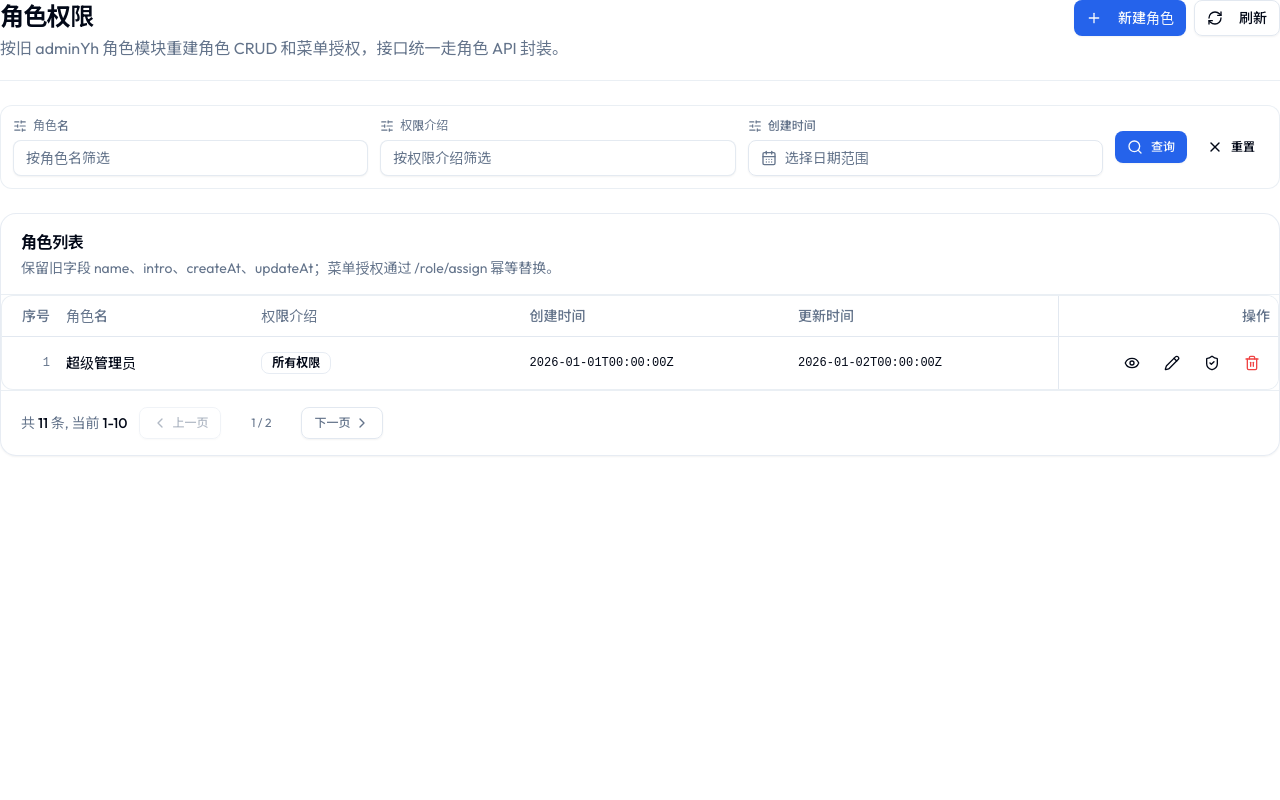
Test case: RolesList › validates required old role fields before creating
Check: the text "超级管理员" is shown, box [58,336,253,388]
Click the button "新建角色".
click(1130, 18)  # box [1074,0,1186,36]
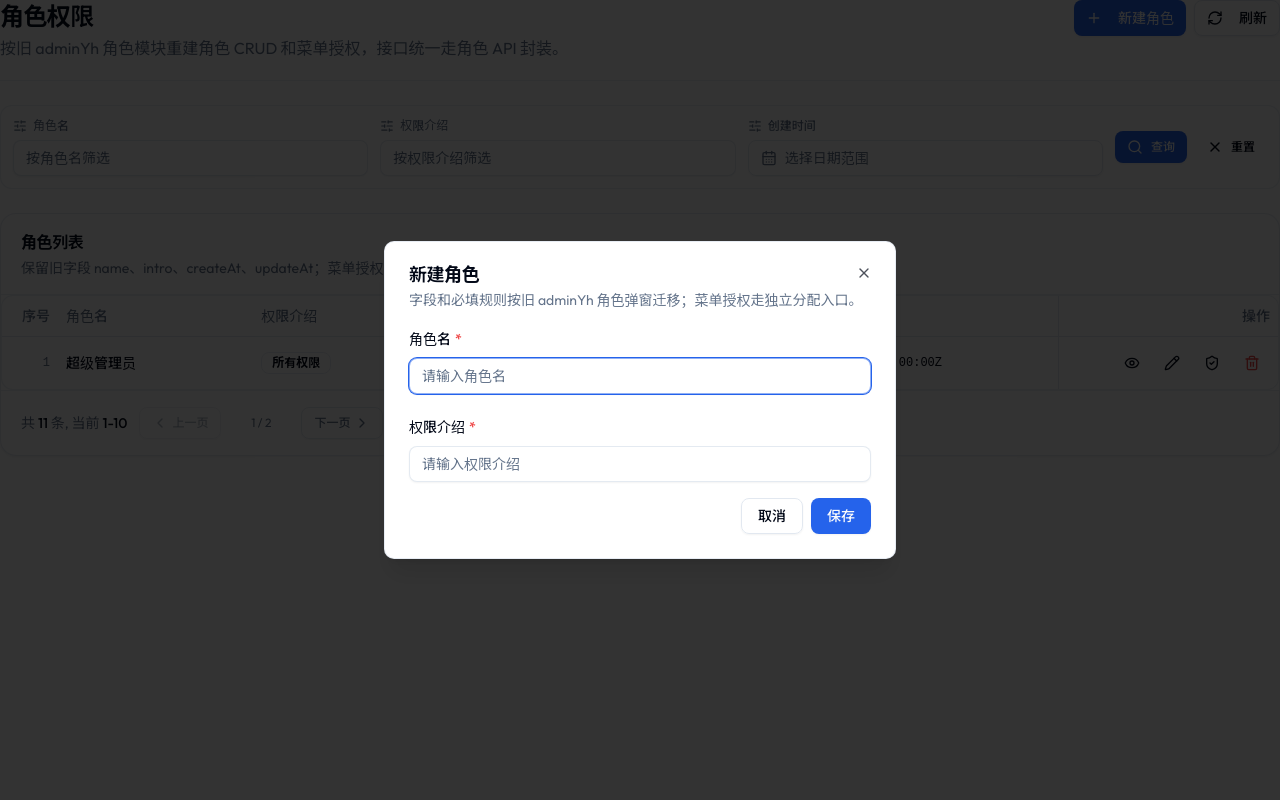
Click the button "保存".
click(841, 516)  # box [811,498,871,534]
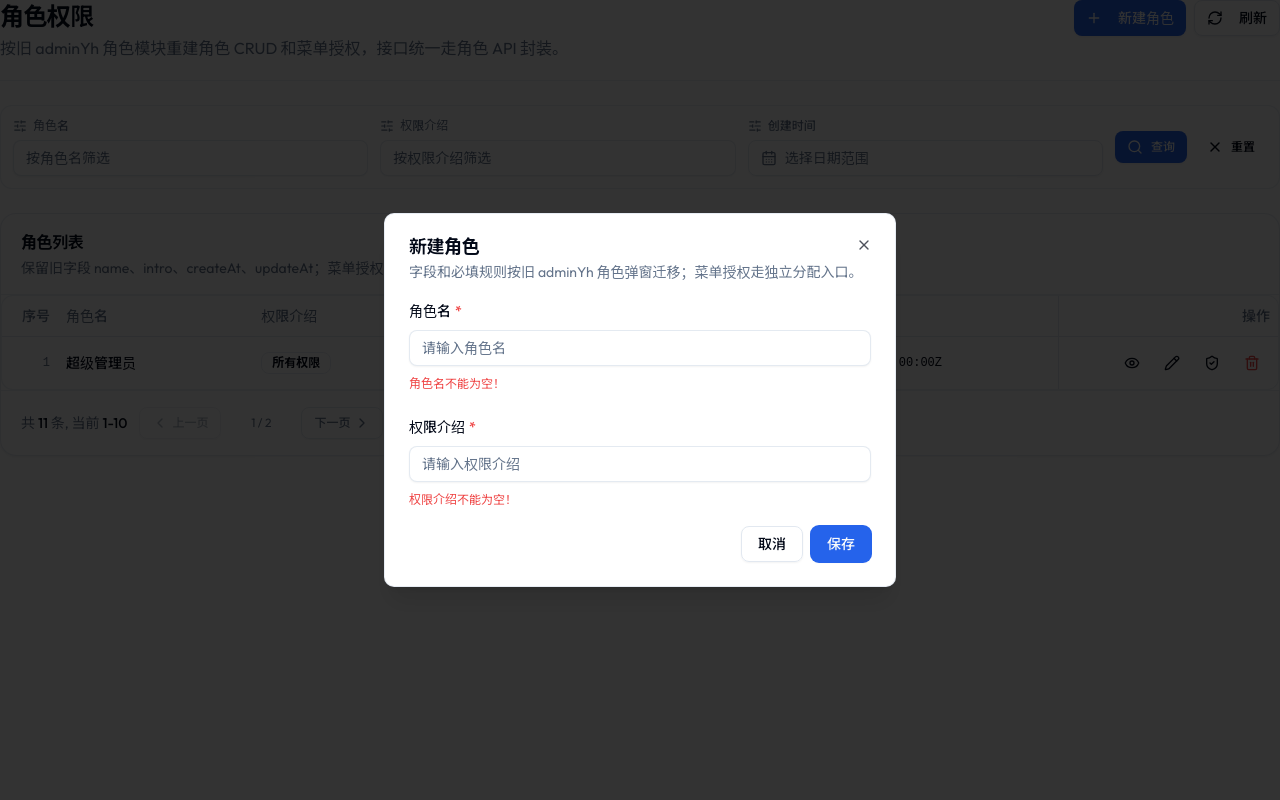
Check: the text "角色名不能为空！" is shown, box [409,376,505,391]
Check: the text "权限介绍不能为空！" is shown, box [409,492,517,507]
